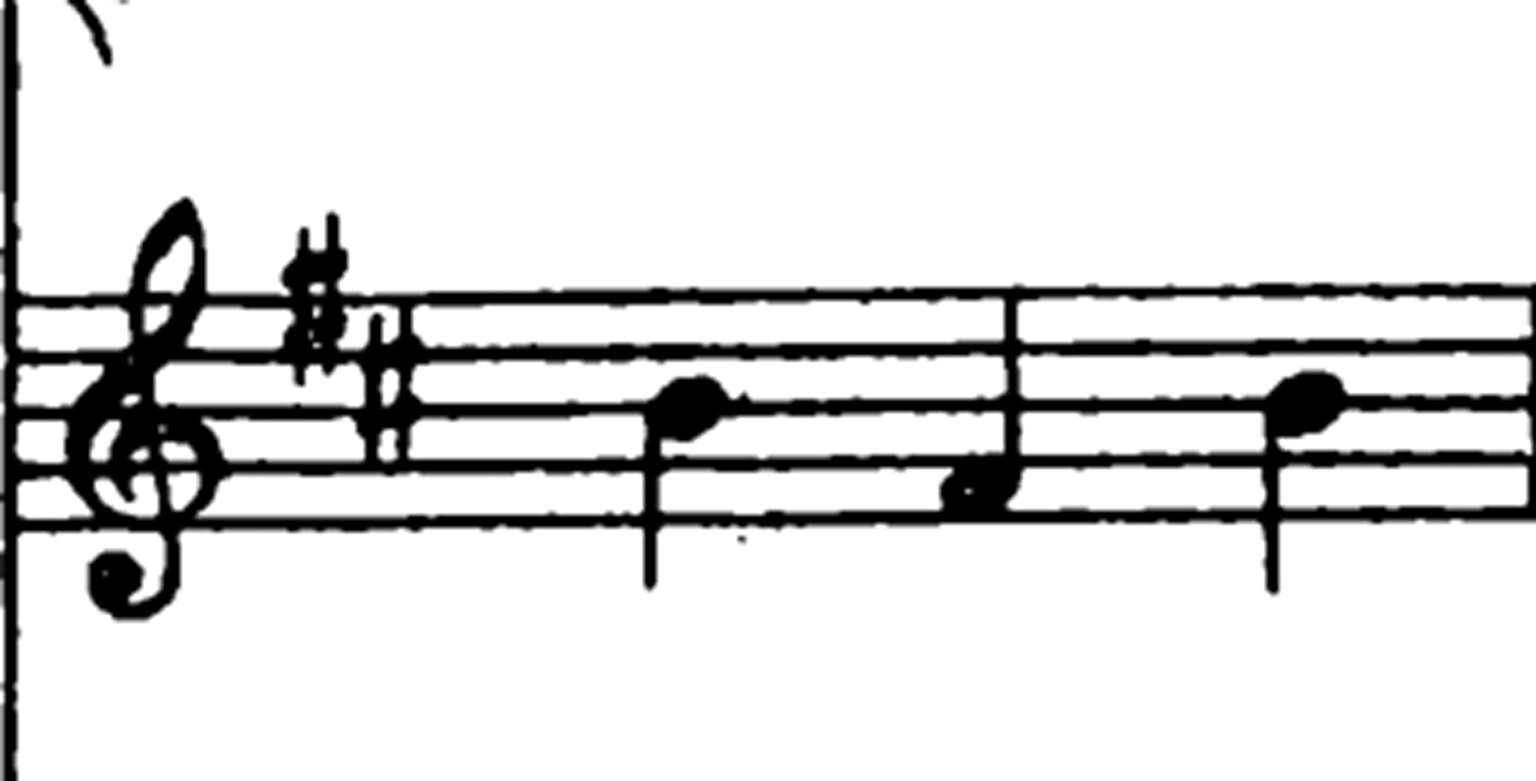clefG: (35, 166, 253, 645)
restHBar: (2, 426, 1133, 519), (64, 375, 823, 446)
